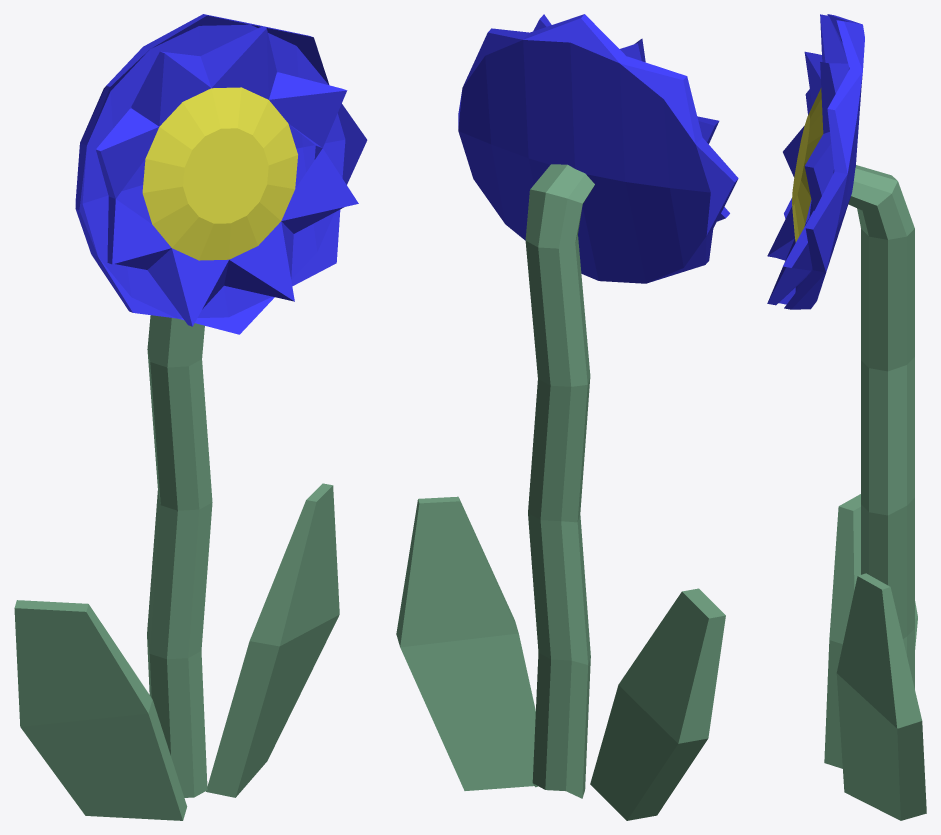
The model's file is Flower2.fbx.
The picture shows the model from 3 angles, left to right: view 1: azimuth 30°, elevation 25°; view 2: azimuth 150°, elevation 25°; view 3: azimuth 270°, elevation 25°; orthographic projection. The views are drawn at different scales.
Visible parts, largest first — view 1: Flower2; view 2: Flower2; view 3: Flower2.
Boxes of the visible parts, box(x1,y1,x2,y2) form: Flower2: box(14, 14, 367, 820); Flower2: box(396, 14, 738, 820); Flower2: box(767, 14, 926, 820).
Size of the model in its own units: 18.41 by 41.76 by 7.98.
